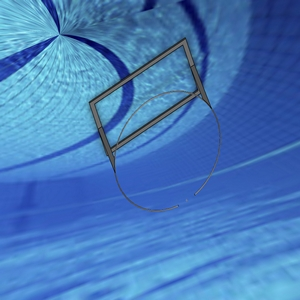circle: (88, 37, 224, 214)
